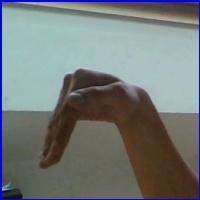A: (31, 67, 148, 179)
